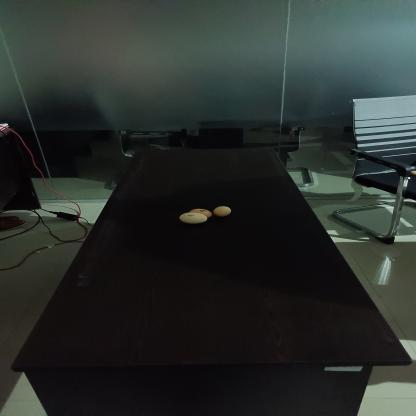egg: (179, 211, 208, 225), (188, 207, 214, 220), (212, 204, 233, 216)
